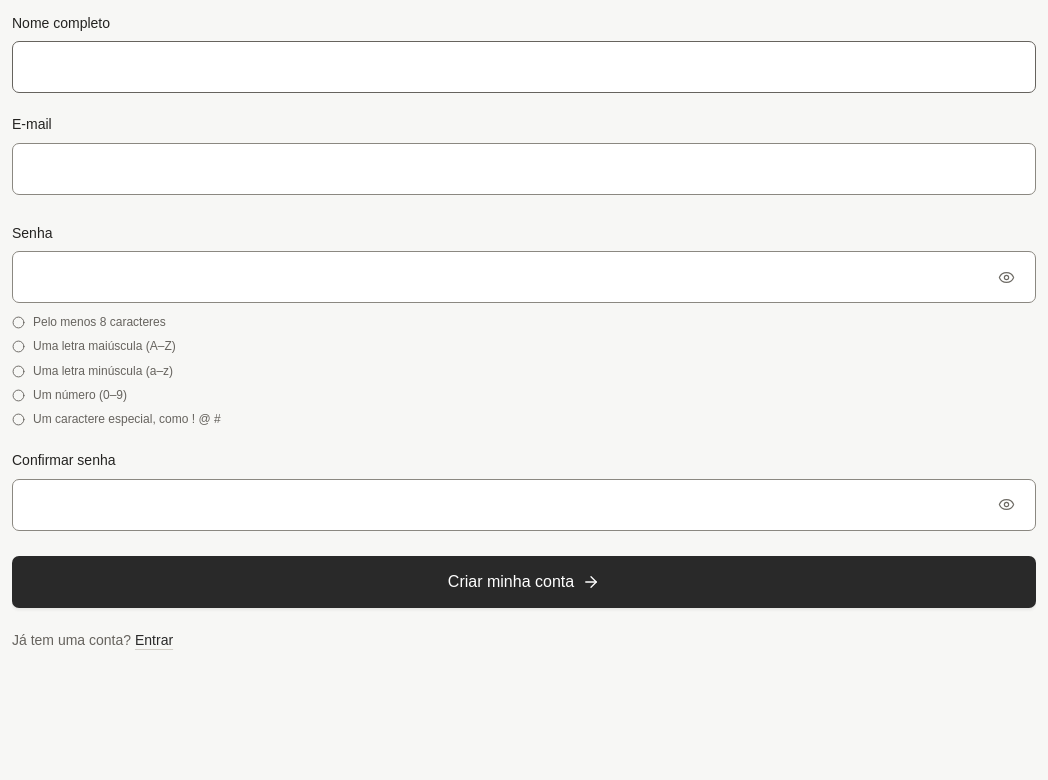
Verificação do e-mail durante o cadastro › mostra erro de reenvio sem afirmar que o e-mail foi enviado
The image size is (1048, 780).
Type "pending@example.test" into the field labelled "E-mail" at (524, 169), box [12,143,1036,195]
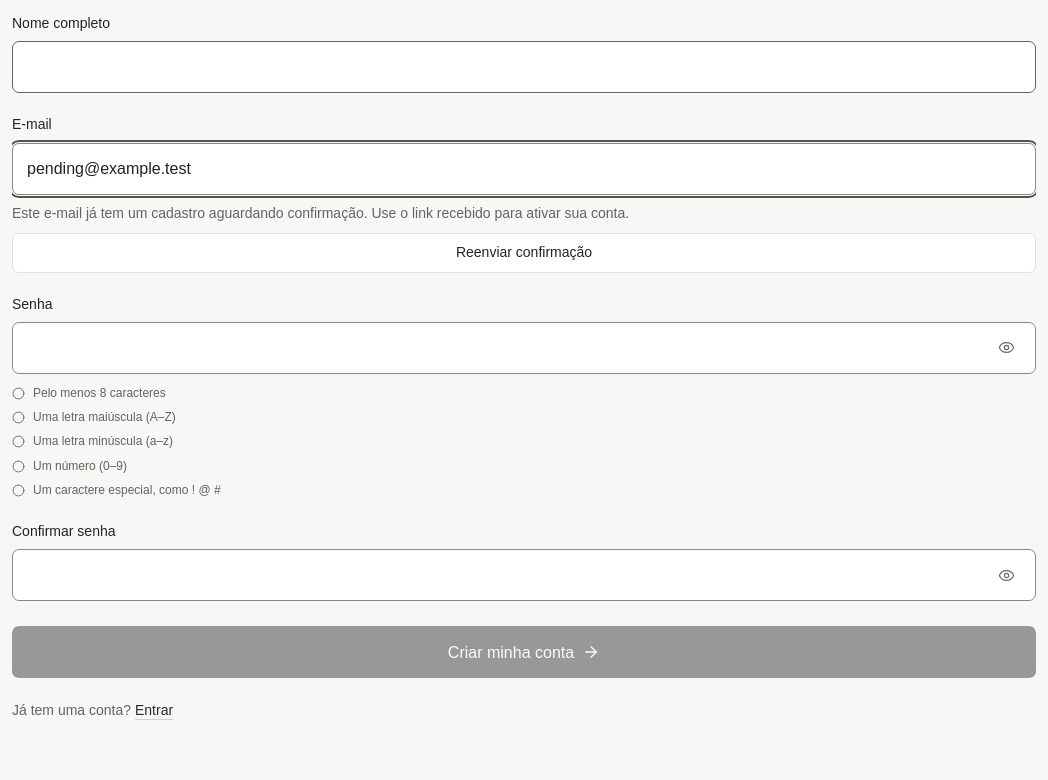
Click the button "Reenviar confirmação" at (524, 253), box [12,233,1036,273]
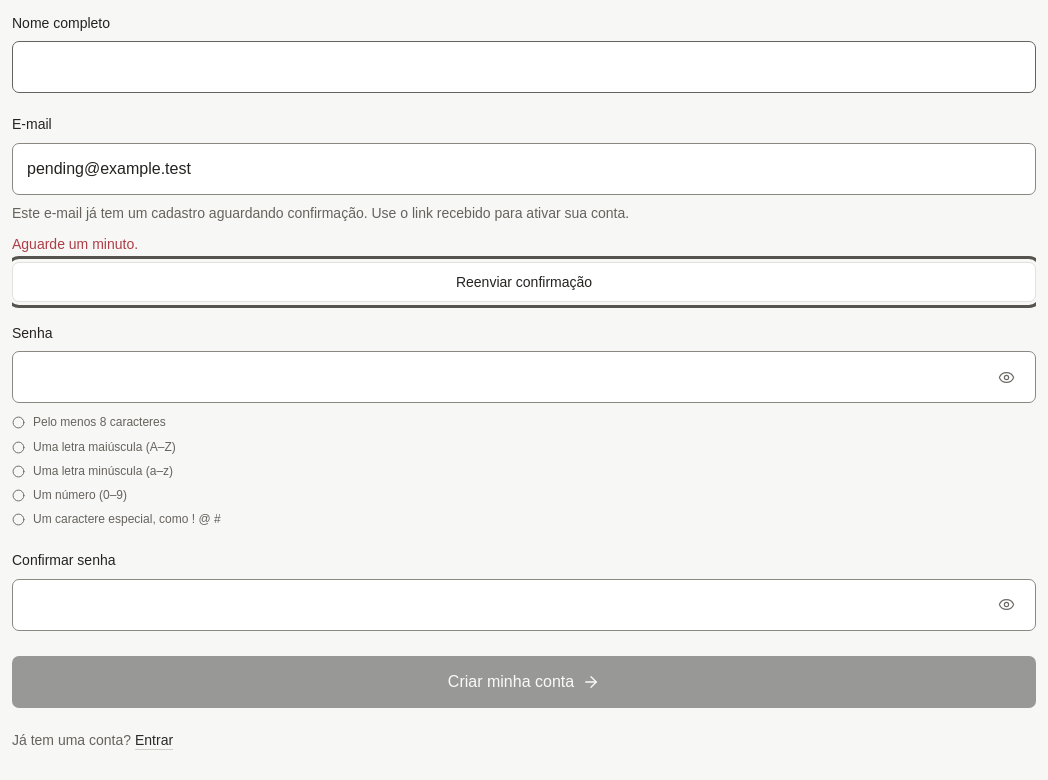
Check: the message shows "Aguarde um minuto", box [12,236,138,252]
